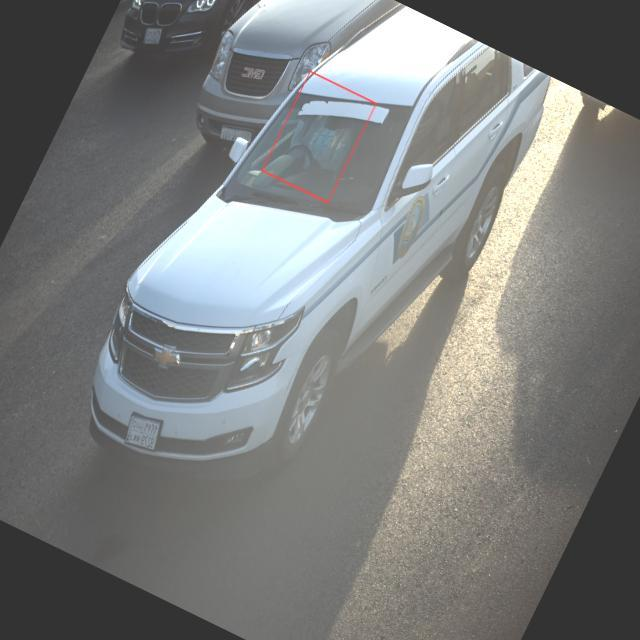windshield: (217, 84, 435, 231)
